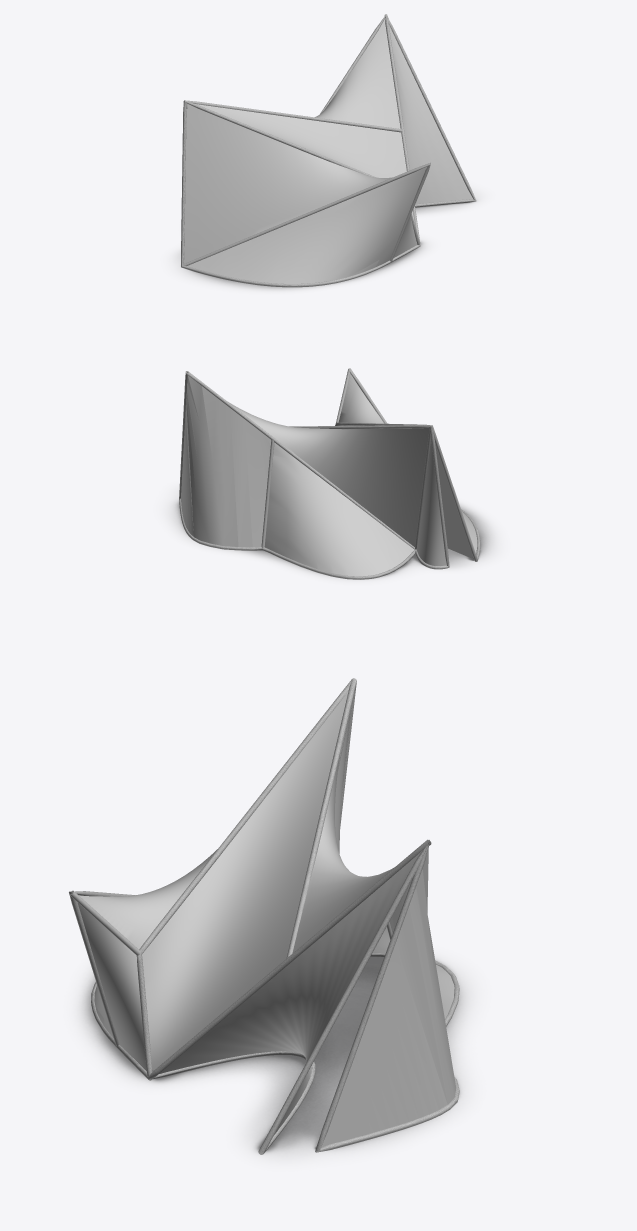
3 renders of one model, top to bottom at view 1: azimuth 30°, elevation 25°; view 2: azimuth 150°, elevation 25°; view 3: azimuth 270°, elevation 25°, orthographic. The views are drawn at different scales.
Parts seen in each view (by area): view 1: Schil_Def, Sweep_1, Plattegrond; view 2: Schil_Def, Sweep_1, Plattegrond; view 3: Schil_Def, Plattegrond, Sweep_1.
Part boxes in pixels (x1=…): Schil_Def: x1=184, y1=18, x2=473, y2=283; Sweep_1: x1=181, y1=14, x2=476, y2=287; Plattegrond: x1=172, y1=189, x2=482, y2=291; Schil_Def: x1=181, y1=373, x2=477, y2=576; Sweep_1: x1=179, y1=368, x2=480, y2=579; Plattegrond: x1=165, y1=487, x2=498, y2=581; Schil_Def: x1=77, y1=692, x2=456, y2=1147; Plattegrond: x1=75, y1=955, x2=475, y2=1161; Sweep_1: x1=69, y1=678, x2=459, y2=1154.
Bounding box in the file's own units: 5837 × 2090 × 4108.
